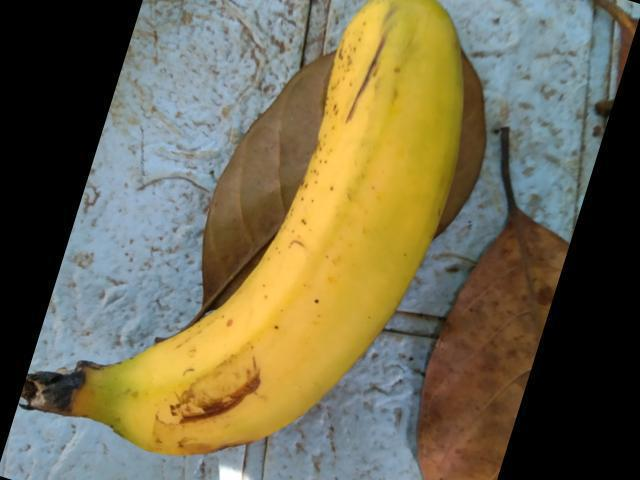ripe: (99, 0, 496, 479)
